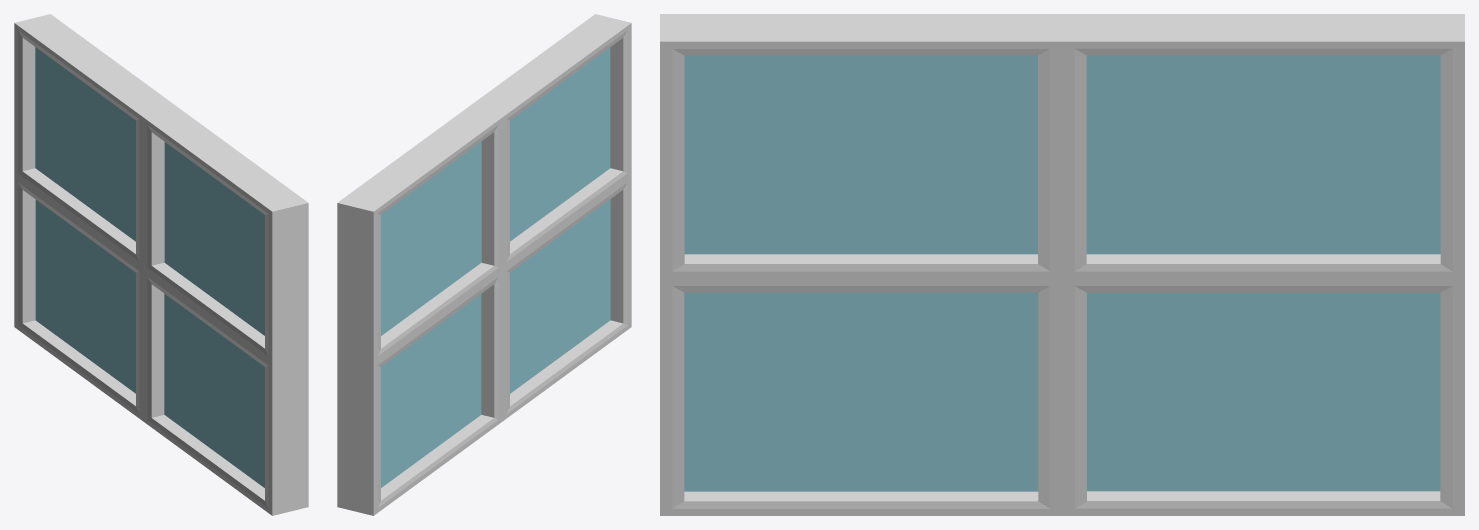
File: Window.fbx
3 views of the same model, side by side, from view 1: azimuth 30°, elevation 25°; view 2: azimuth 150°, elevation 25°; view 3: azimuth 270°, elevation 25° (orthographic). The views are drawn at different scales.
Parts seen in each view (by area): view 1: Cube; view 2: Cube; view 3: Cube.
Boxes of the visible parts, x1,y1,x2,y2 form: Cube: (14,14,308,515); Cube: (337,14,631,515); Cube: (660,14,1464,515).
Bounding box in the file's own units: 52.31 × 418 × 643.
